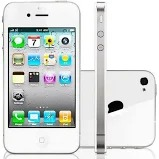iphone: (1, 1, 82, 155)
iphone4: (1, 1, 81, 155)
